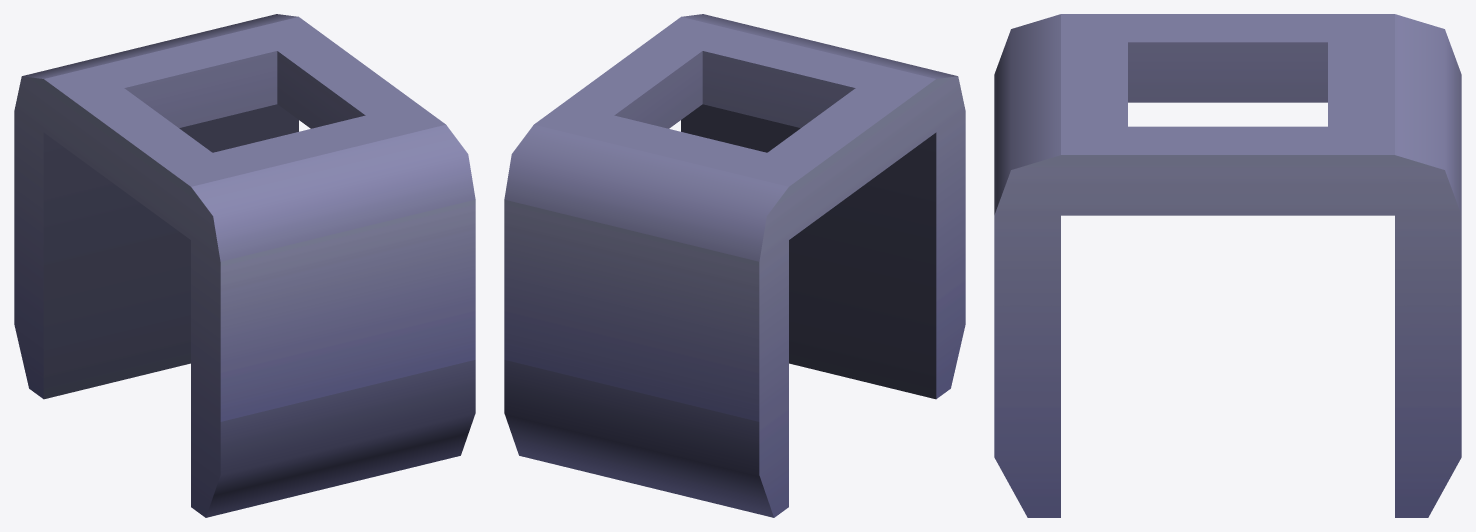
Rendered from kenney-conveyor-cover-top.glb.
The picture shows the model from 3 angles, left to right: view 1: azimuth 30°, elevation 25°; view 2: azimuth 150°, elevation 25°; view 3: azimuth 270°, elevation 25°; orthographic projection. The views are drawn at different scales.
Visible parts, largest first — view 1: cover-top; view 2: cover-top; view 3: cover-top.
Part boxes in pixels (box(x1,y1,x2,y2)): cover-top: box(14, 14, 475, 517); cover-top: box(504, 14, 965, 517); cover-top: box(994, 14, 1461, 517).
Bounding box in the file's own units: 1 × 1.2 × 1.4.
1 material, 1 textured.
